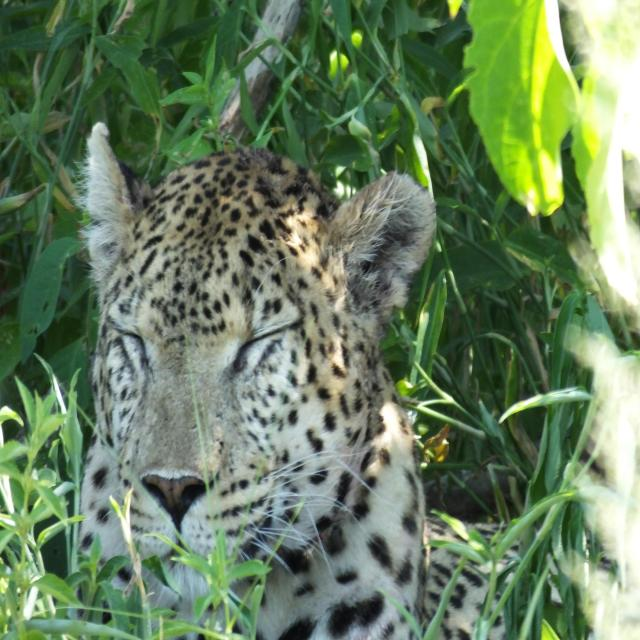Leopard: (60, 162, 587, 640)
